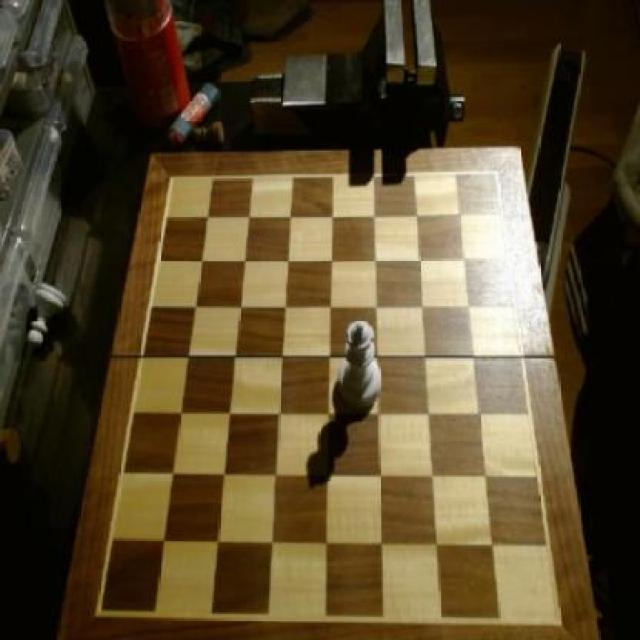white-pawn: (340, 317, 383, 410)
